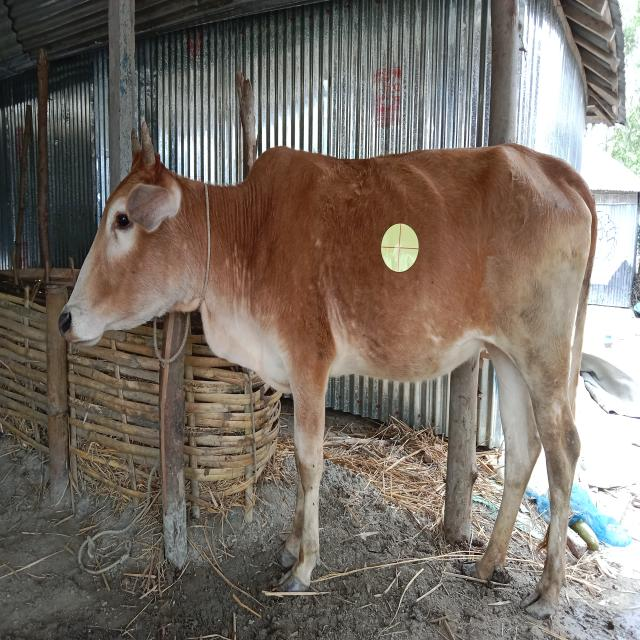badan_sapi: (254, 150, 584, 378)
sapi: (55, 118, 607, 634)
